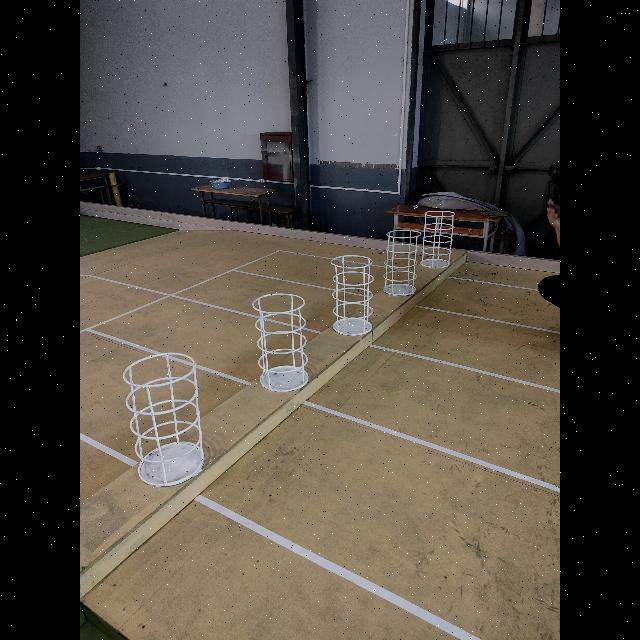S: (122, 353, 208, 488), (252, 292, 310, 393), (330, 254, 373, 336), (382, 228, 423, 296), (419, 211, 455, 269)
